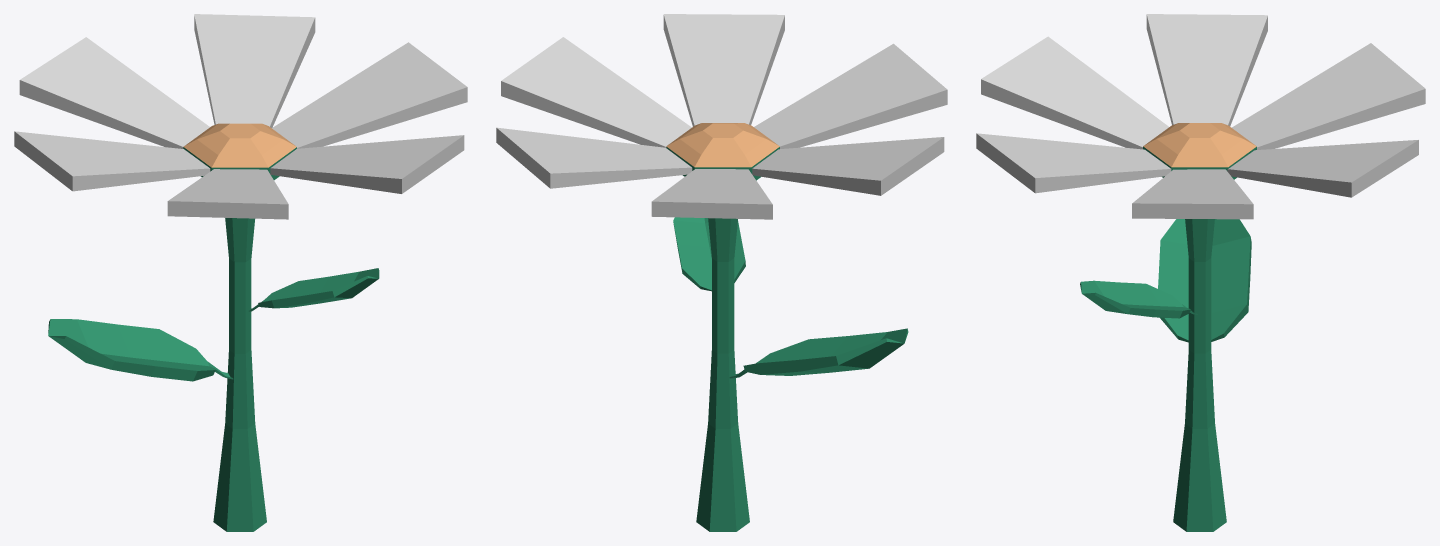
File: flower2.fbx
3 views of the same model, side by side, from view 1: azimuth 30°, elevation 25°; view 2: azimuth 150°, elevation 25°; view 3: azimuth 270°, elevation 25° (orthographic).
Visible parts, largest first — view 1: Cube, Circle; view 2: Cube, Circle; view 3: Cube, Circle.
Boxes of the visible parts, x1,y1,x2,y2 form: Cube: (14,14,467,219); Circle: (48,123,379,531); Cube: (496,14,947,219); Circle: (666,123,908,531); Cube: (976,14,1425,219); Circle: (1080,123,1256,531).
Size of the model in its own units: 991 by 1004 by 990.
